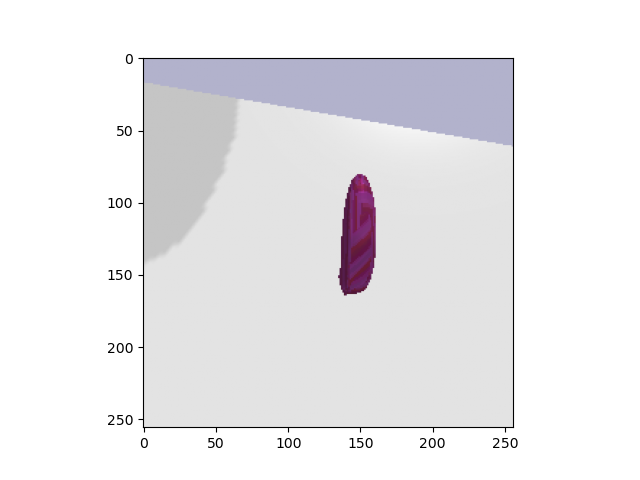v249b387_105: (330, 170, 395, 305)
